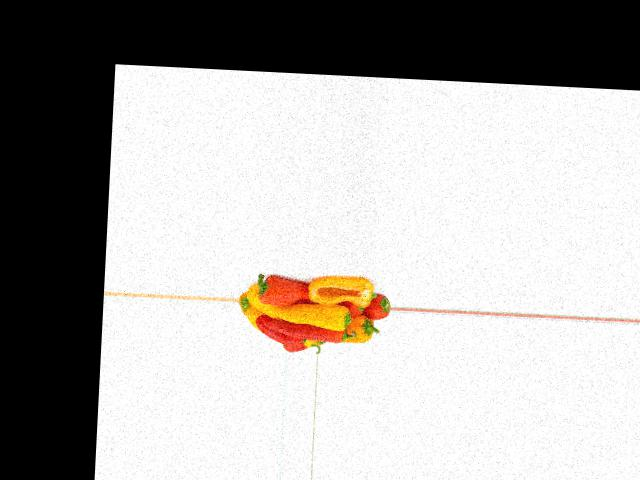bell_pepper: (346, 293, 391, 325)
